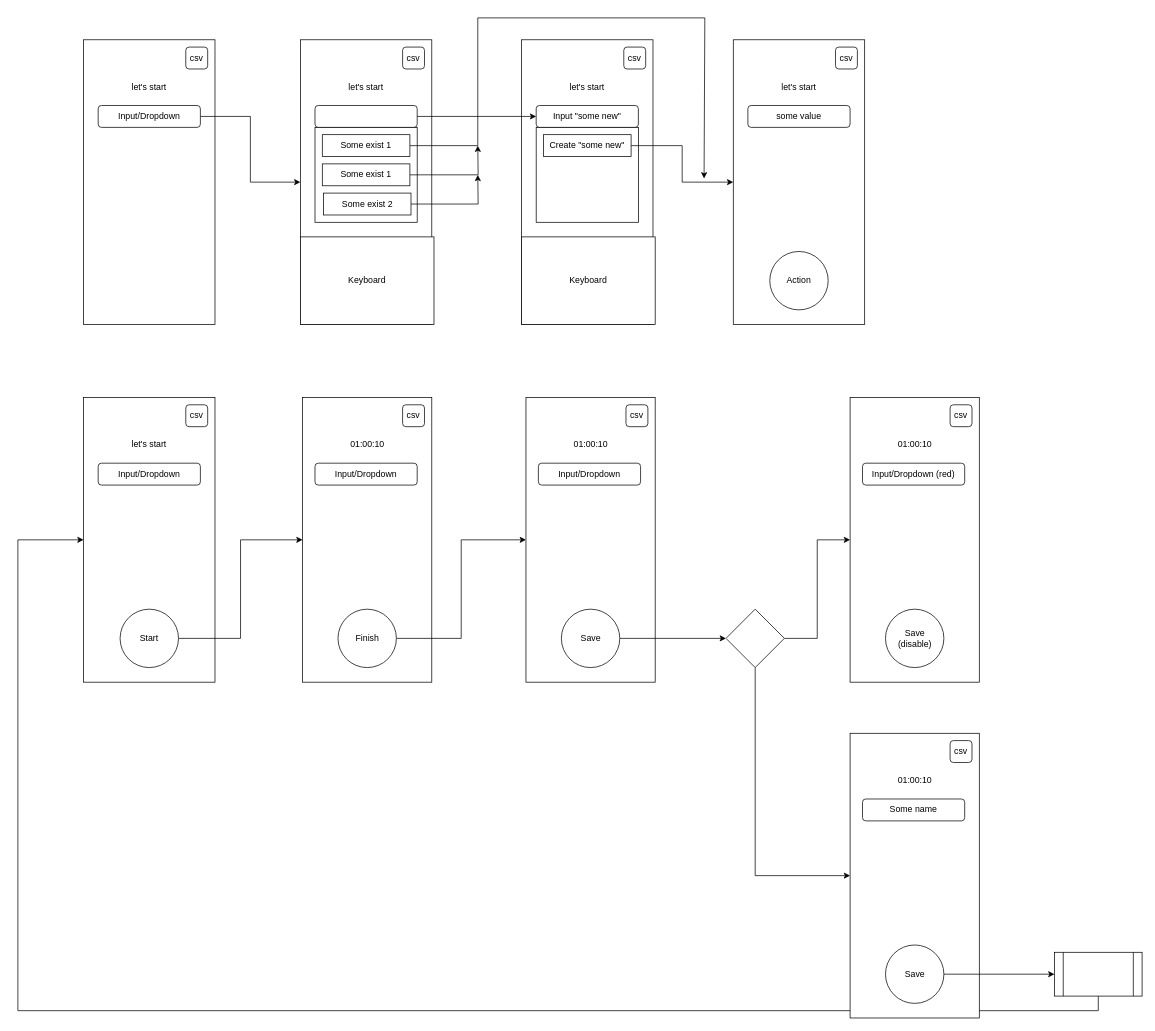
The diagram is 1155 pixels wide and 1031 high, and some of its shapes have lost their labels. Here are the shapes that lost their labels. From the top down, the centre of each, then its label:
point 365,116: Focus input
point 754,638: Empty Input
point 1098,974: Тост про успешное завершение
